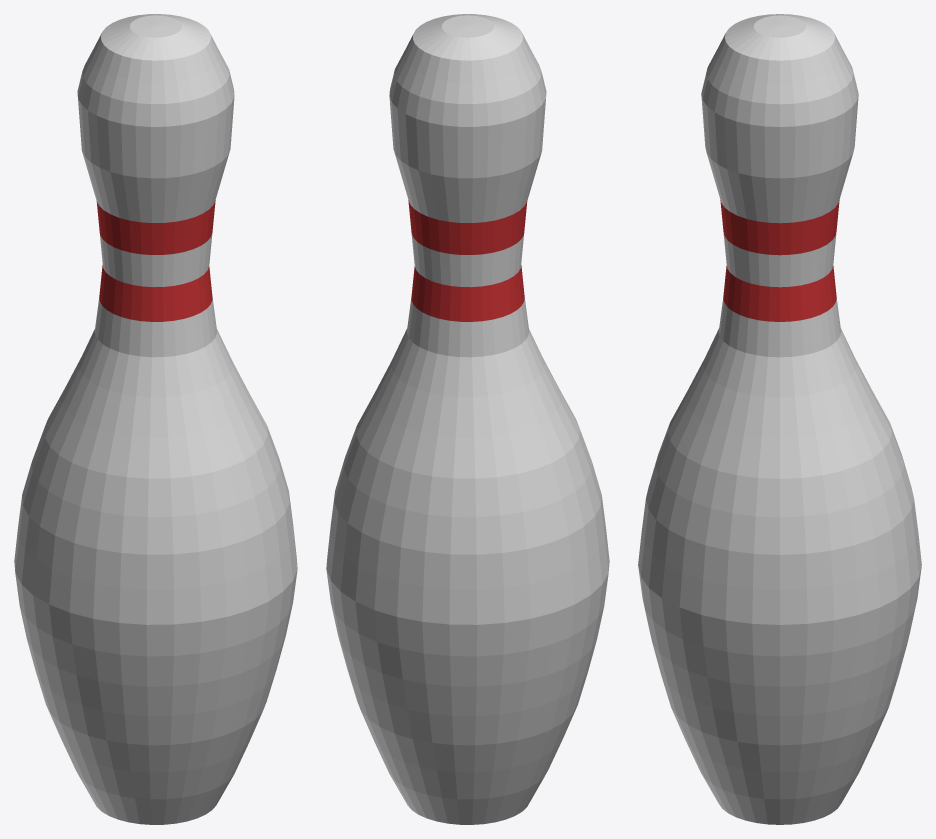
The model's file is pin.gltf.
The picture shows the model from 3 angles, left to right: view 1: azimuth 30°, elevation 25°; view 2: azimuth 150°, elevation 25°; view 3: azimuth 270°, elevation 25°; orthographic projection.
Parts seen in each view (by area): view 1: Cylinder; view 2: Cylinder; view 3: Cylinder.
Boxes of the visible parts, bbox=[...] form: Cylinder: bbox=[14, 14, 297, 824]; Cylinder: bbox=[326, 14, 609, 824]; Cylinder: bbox=[638, 14, 921, 824].
Bounding box in the file's own units: 1.09 × 3.28 × 1.09.
